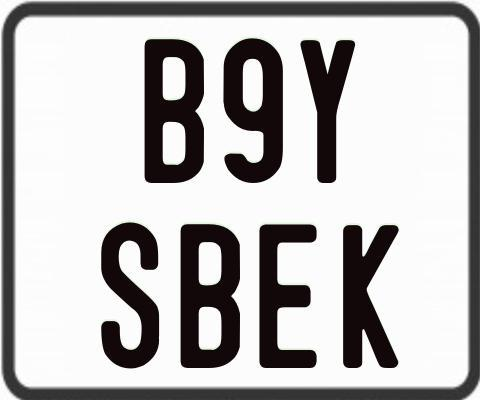9: (222, 38, 282, 186)
B: (180, 222, 242, 369), (145, 38, 204, 188)
E: (258, 221, 316, 369)
K: (343, 225, 403, 369)
S: (99, 219, 159, 370)
Y: (301, 40, 359, 183)
